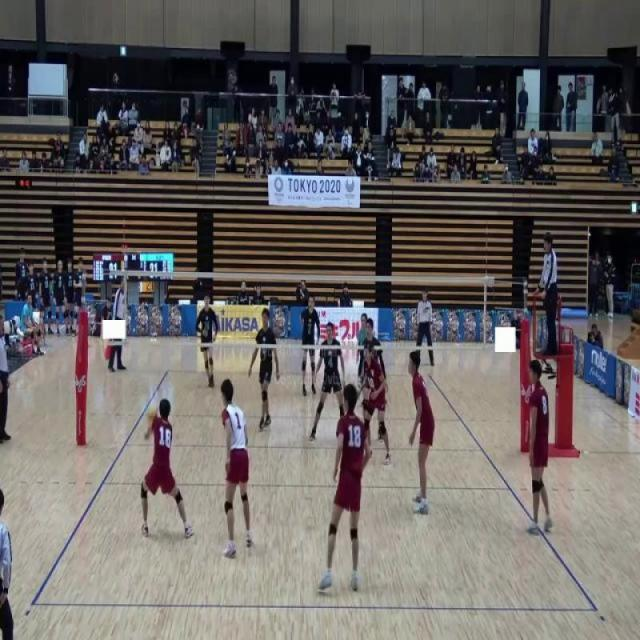volleyball: (146, 405, 158, 424)
